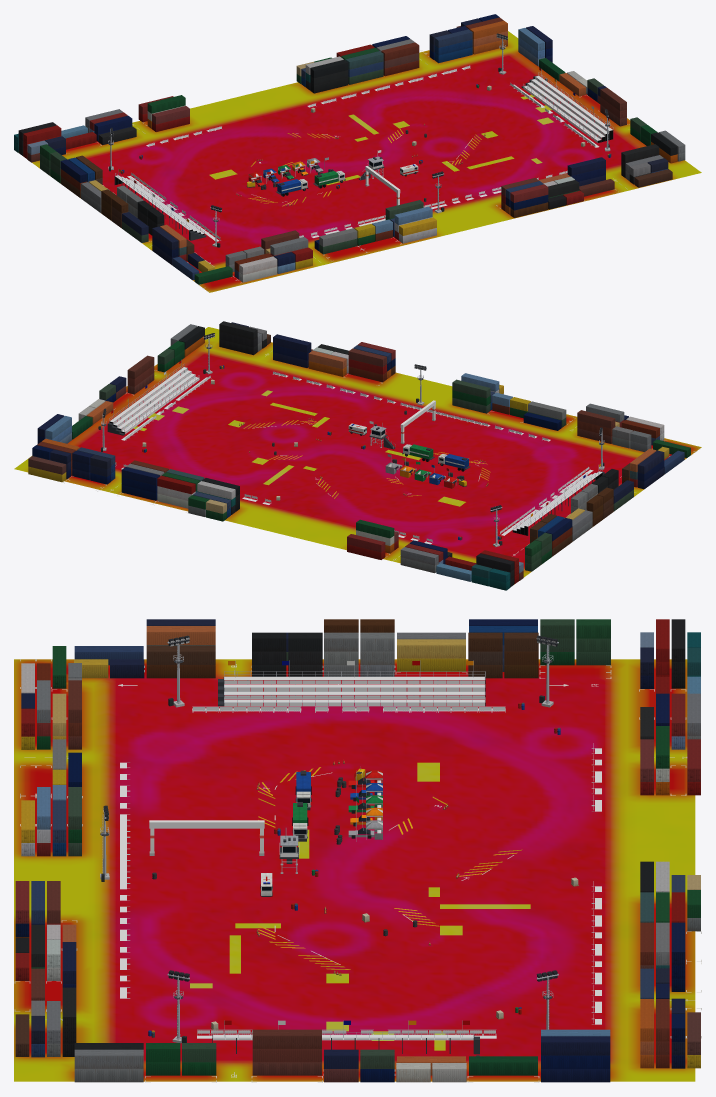
File: arena.glb
3 views of the same model, one above another, from view 1: azimuth 30°, elevation 25°; view 2: azimuth 150°, elevation 25°; view 3: azimuth 270°, elevation 25° (orthographic). The views are drawn at different scales.
Parts seen in each view (by area): view 1: Boden_gelaende, Container_seite, Container_dach, Container_tuer, Tribuene_e_menge_e_menge, Tribuene_stahl_stahl, Zuschauer_e_banner_e_banner, Zuschauer_e_menge_e_menge, Tribuene_e_banner_e_banner, Dienst_lack_lack, Zuschauer_stahl_stahl, Arena_lack_lack (+2 smaller); view 2: Boden_gelaende, Container_seite, Container_dach, Container_tuer, Tribuene_e_menge_e_menge, Tribuene_stahl_stahl, Zuschauer_e_banner_e_banner, Zuschauer_e_menge_e_menge, Tribuene_e_banner_e_banner, Dienst_lack_lack, Arena_lack_lack, Zuschauer_stahl_stahl (+3 smaller); view 3: Boden_gelaende, Container_seite, Container_dach, Container_tuer, Tribuene_e_banner_e_banner, Tribuene_e_menge_e_menge, Tribuene_stahl_stahl, Zuschauer_e_menge_e_menge, Zuschauer_stahl_stahl, Zuschauer_e_banner_e_banner, Mast_stahl_stahl, Arena_lack_lack (+6 smaller).
Part boxes in pixels (left/top/right/bottom): Boden_gelaende: left=32, top=31, right=701, bottom=292; Container_seite: left=18, top=17, right=678, bottom=284; Container_dach: left=14, top=14, right=684, bottom=276; Container_tuer: left=14, top=26, right=685, bottom=282; Tribuene_e_menge_e_menge: left=115, top=76, right=612, bottom=233; Tribuene_stahl_stahl: left=115, top=69, right=613, bottom=234; Zuschauer_e_banner_e_banner: left=131, top=66, right=595, bottom=239; Zuschauer_e_menge_e_menge: left=127, top=67, right=599, bottom=241; Tribuene_e_banner_e_banner: left=523, top=77, right=609, bottom=142; Dienst_lack_lack: left=277, top=164, right=418, bottom=193; Zuschauer_stahl_stahl: left=131, top=65, right=595, bottom=240; Arena_lack_lack: left=247, top=156, right=383, bottom=187; Boden_gelaende: left=14, top=327, right=701, bottom=584; Container_seite: left=28, top=324, right=690, bottom=590; Container_dach: left=28, top=321, right=690, bottom=575; Container_tuer: left=37, top=331, right=664, bottom=590; Tribuene_e_menge_e_menge: left=110, top=367, right=601, bottom=530; Tribuene_stahl_stahl: left=109, top=360, right=602, bottom=530; Zuschauer_e_banner_e_banner: left=115, top=372, right=589, bottom=541; Zuschauer_e_menge_e_menge: left=115, top=374, right=593, bottom=544; Tribuene_e_banner_e_banner: left=113, top=368, right=199, bottom=433; Dienst_lack_lack: left=348, top=423, right=468, bottom=468; Arena_lack_lack: left=370, top=424, right=466, bottom=488; Zuschauer_stahl_stahl: left=115, top=371, right=589, bottom=542; Boden_gelaende: left=14, top=659, right=695, bottom=1081; Container_seite: left=15, top=625, right=700, bottom=1082; Container_dach: left=15, top=619, right=700, bottom=1068; Container_tuer: left=15, top=648, right=700, bottom=1068; Tribuene_e_banner_e_banner: left=213, top=680, right=484, bottom=1039; Tribuene_e_menge_e_menge: left=213, top=677, right=484, bottom=1039; Tribuene_stahl_stahl: left=212, top=660, right=485, bottom=1040; Zuschauer_e_menge_e_menge: left=120, top=708, right=601, bottom=1038; Zuschauer_stahl_stahl: left=127, top=706, right=594, bottom=1035; Zuschauer_e_banner_e_banner: left=193, top=707, right=505, bottom=1033; Mast_stahl_stahl: left=100, top=638, right=558, bottom=1039; Arena_lack_lack: left=280, top=768, right=382, bottom=853.
Size of what is drawn, in the model's own units: 177 by 13.12 by 121.
Materials: 21 (5 with a texture image).
